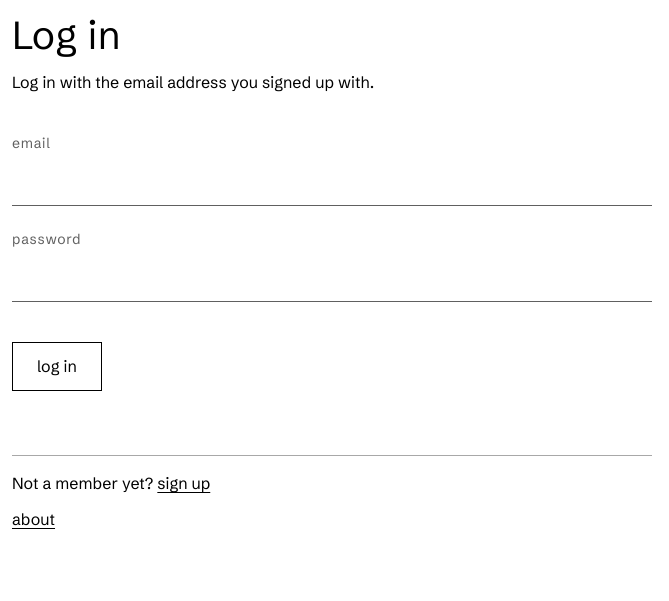
Test: LoginPage › F-11: an empty submit names both missing fields in text and sends nothing
Click the button "log in".
click(57, 366)  # box [12, 342, 102, 391]
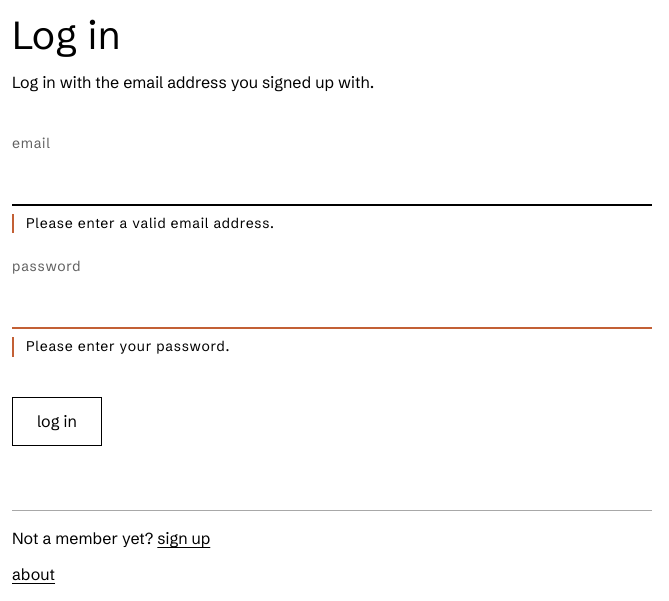
Expected: the text "Please enter a valid email address." is shown, [12, 214, 652, 234]
